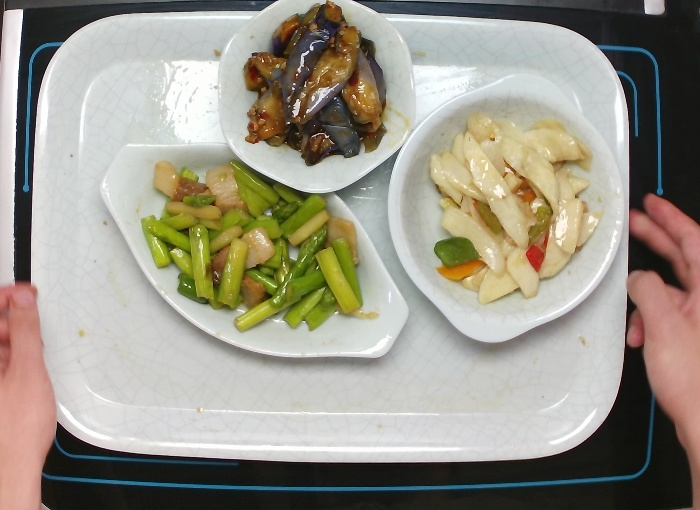JYsf-Shuang_Er_Wan: (386, 78, 625, 346)
JYsf-Yu_Pan: (99, 133, 408, 358)
WCQzf-Hua_Duo_Wan: (213, 1, 415, 196)
